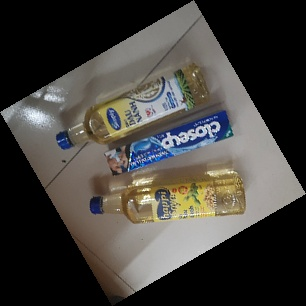CloseUp Tuyet: (102, 108, 236, 178)
Happy Soya: (88, 169, 247, 225)
Simply: (54, 63, 208, 152)
